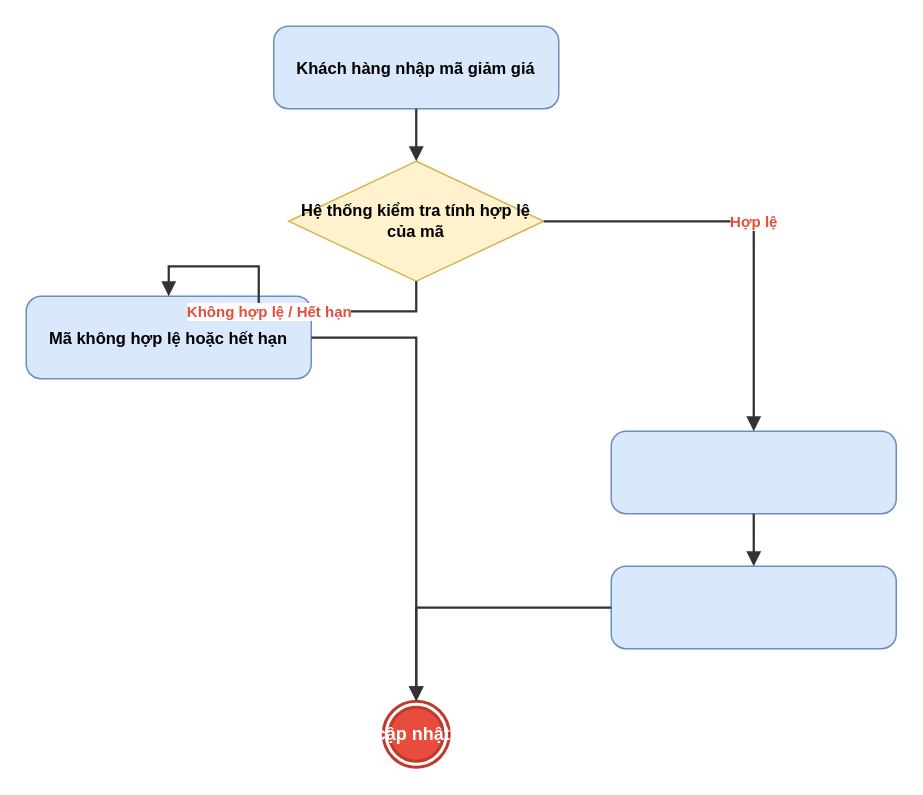
Some shapes in this 923 by 795 pixel diagram are drawn without their labels. Here are the shapes that lost their labels. From the top down, the centre of each, then its label:
At point (753, 472): "Mã hợp lệ".
At point (753, 607): "Trừ đúng số tiền tương ứng vào tổng hóa đơn".
